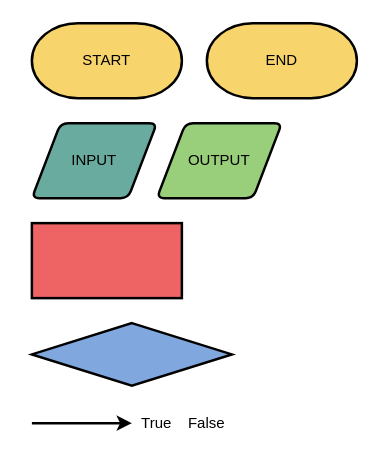
Image size: 379x456. Some labels were removed from this diagram. Each missing label, with the centre of its shape:
CONDITIONAL: (x=131, y=353)
PROCESS: (x=106, y=260)
